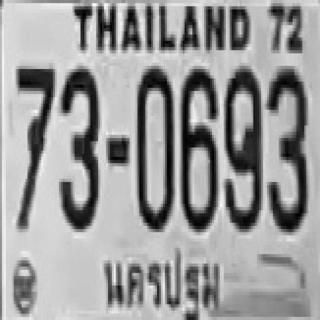N00: (135, 66, 173, 229)
N03: (266, 66, 307, 229), (57, 66, 98, 226)
N06: (179, 66, 216, 229)
N07: (14, 64, 53, 228)
N09: (223, 66, 260, 229)
P28: (97, 245, 229, 320)
